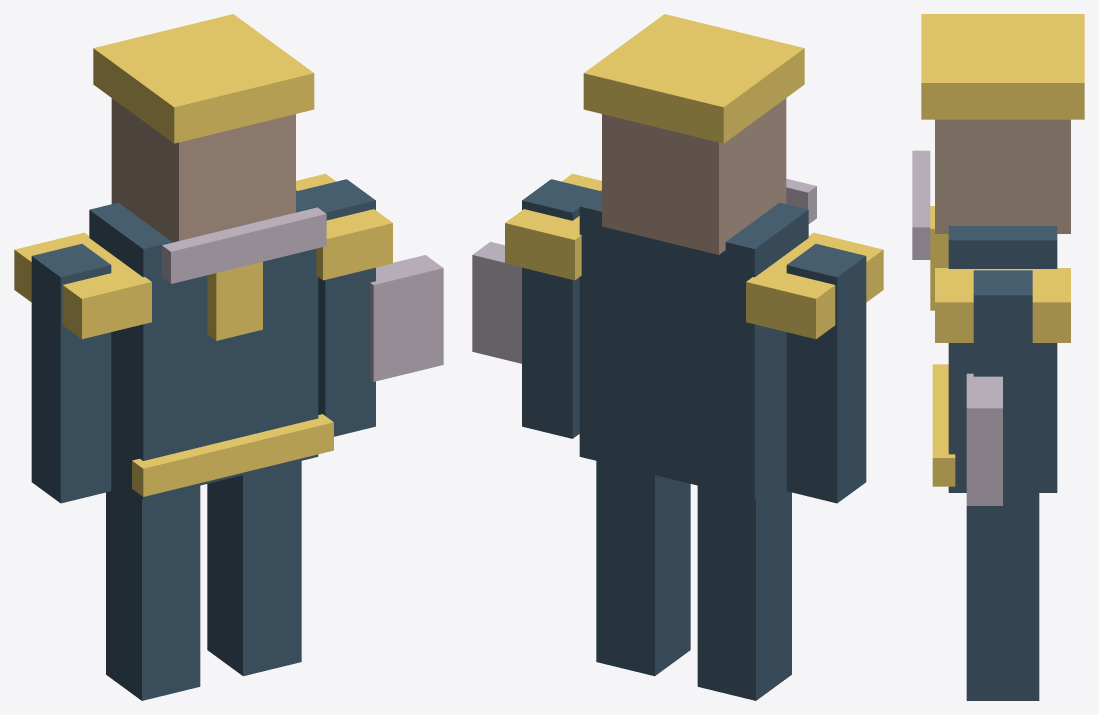
The model's file is 11_yara_whispercoil_responder_near_power.glb.
3 views of the same model, side by side, from view 1: azimuth 30°, elevation 25°; view 2: azimuth 150°, elevation 25°; view 3: azimuth 270°, elevation 25° (orthographic).
Parts seen in each view (by area): view 1: Yara Whispercoil, Responder near Power; view 2: Yara Whispercoil, Responder near Power; view 3: Yara Whispercoil, Responder near Power.
Part boxes in pixels (left/top/right/bottom): Yara Whispercoil, Responder near Power: left=14, top=14, right=443, bottom=700; Yara Whispercoil, Responder near Power: left=472, top=14, right=883, bottom=700; Yara Whispercoil, Responder near Power: left=912, top=14, right=1084, bottom=700.
Bounding box in the file's own units: 0.9168 × 1.4 × 0.3573.
